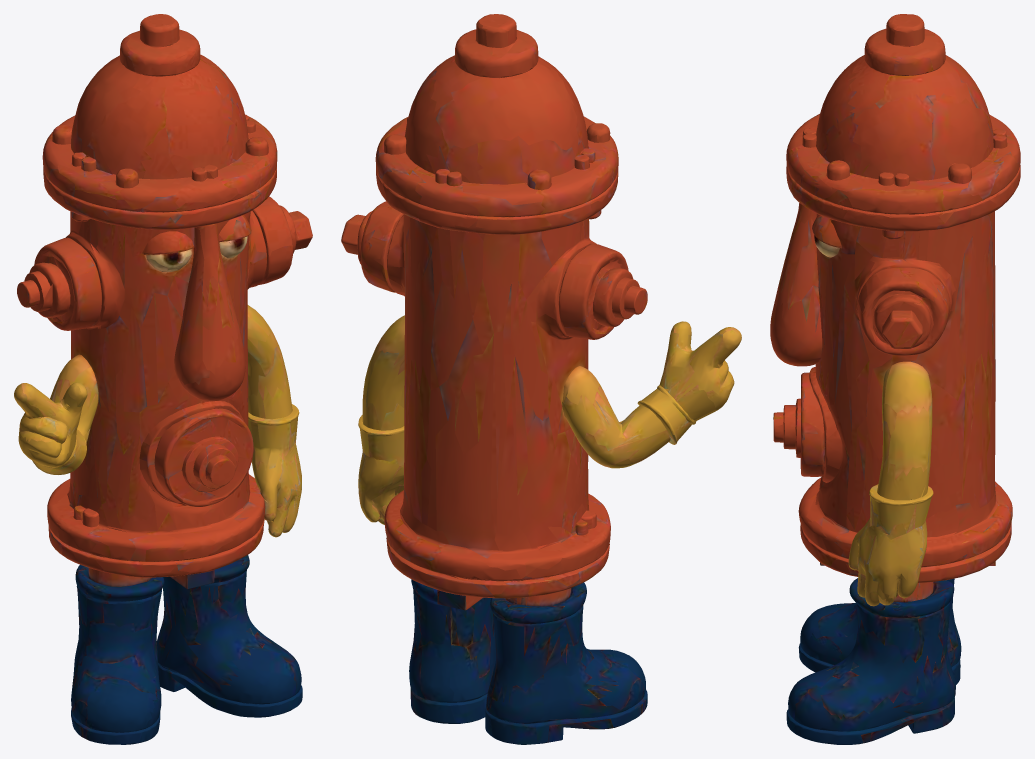
File: mainst_hydrant.glb
3 renders of one model, left to right at view 1: azimuth 30°, elevation 25°; view 2: azimuth 150°, elevation 25°; view 3: azimuth 270°, elevation 25°, orthographic. The views are drawn at different scales.
Parts seen in each view (by area): view 1: Mesh_0; view 2: Mesh_0; view 3: Mesh_0.
Boxes of the visible parts, x1,y1,x2,y2 form: Mesh_0: [14, 14, 312, 744]; Mesh_0: [341, 14, 741, 744]; Mesh_0: [770, 14, 1020, 744].
Bounding box in the file's own units: 0.9895 × 1.9 × 0.6383.
Materials: 1 (1 with a texture image).
